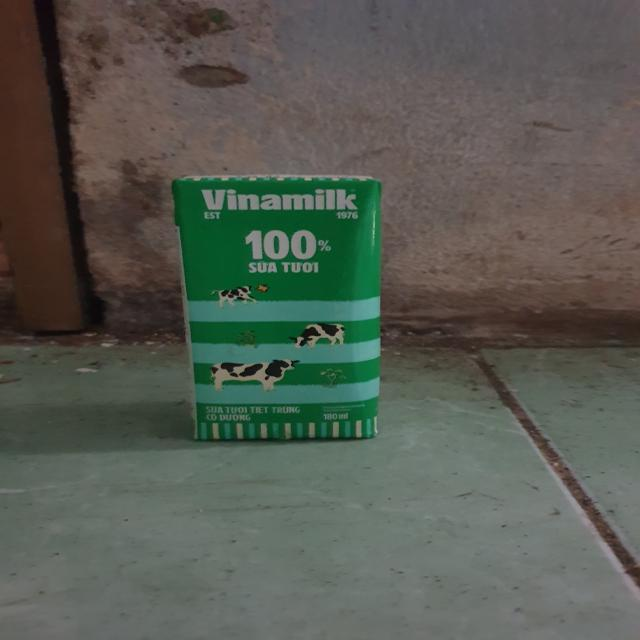Vina: (179, 168, 390, 457)
